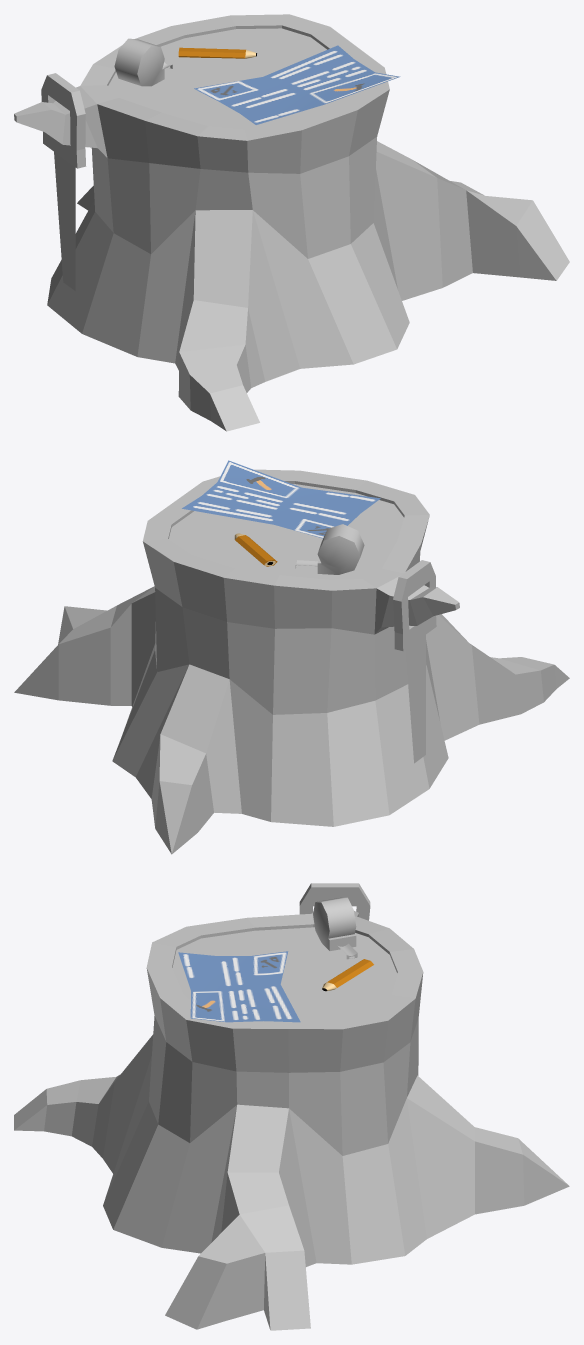
File: Stump Workbench.fbx
The picture shows the model from 3 angles, top to bottom: view 1: azimuth 30°, elevation 25°; view 2: azimuth 150°, elevation 25°; view 3: azimuth 270°, elevation 25°; orthographic projection. The views are drawn at different scales.
Visible parts, largest first — view 1: TreeTrunk, BluePrint, HandSaw, TapeMeasure, WoodPencil; view 2: TreeTrunk, BluePrint, HandSaw, TapeMeasure, WoodPencil; view 3: TreeTrunk, BluePrint, TapeMeasure, HandSaw, WoodPencil.
Boxes of the visible parts, box(x1,y1,x2,y2) form: TreeTrunk: box(14, 14, 569, 431); BluePrint: box(194, 45, 400, 124); HandSaw: box(41, 73, 86, 290); TapeMeasure: box(114, 38, 172, 86); WoodPencil: box(178, 47, 256, 58); TreeTrunk: box(14, 469, 569, 854); BluePrint: box(182, 460, 380, 538); HandSaw: box(393, 560, 436, 763); TapeMeasure: box(295, 524, 364, 574); WoodPencil: box(234, 533, 277, 566); TreeTrunk: box(14, 911, 569, 1330); BluePrint: box(178, 951, 300, 1022); TapeMeasure: box(313, 897, 357, 959); HandSaw: box(299, 883, 370, 920); WoodPencil: box(322, 959, 373, 991).
Bounding box in the file's own units: 448 × 231 × 449.
